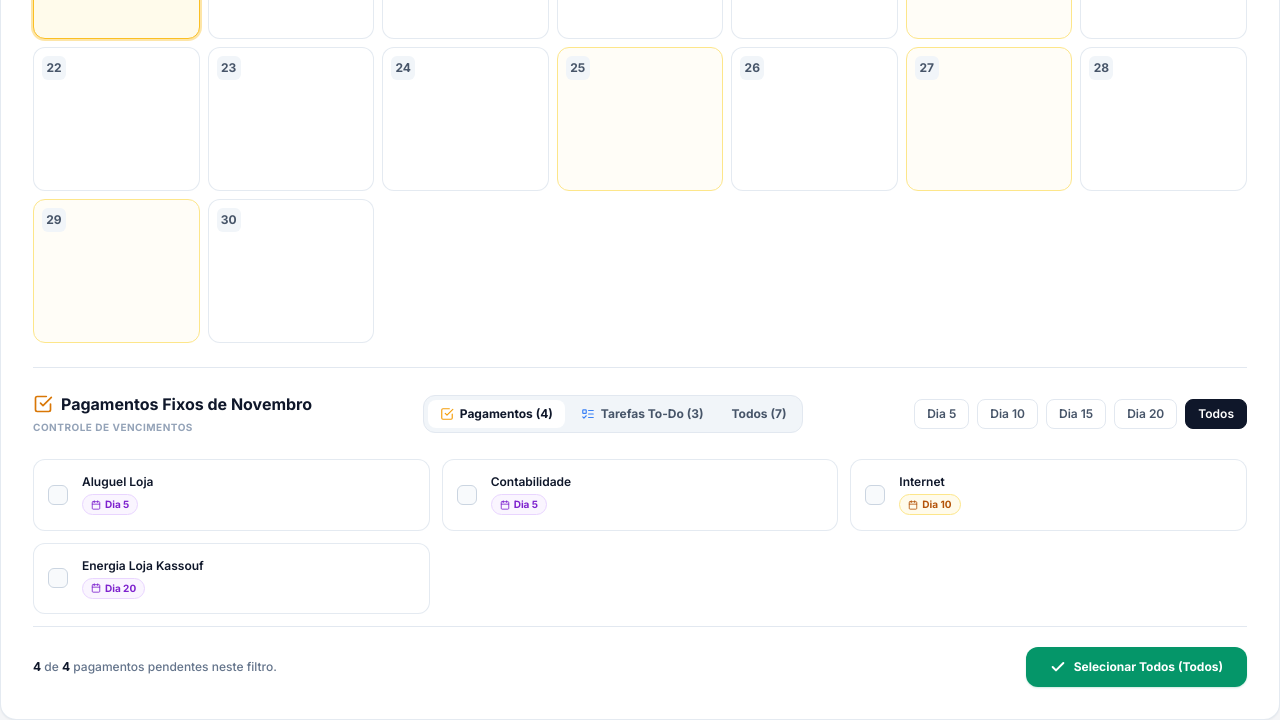
Scenario: Calendário — abas e filtro por dia › o título muda conforme a aba
The width and height of the screenshot is (1280, 720).
(page scrolled)
Check: the heading "Pagamentos Fixos de Novembro" is shown, box [33,392,312,416]
Click the button "Tarefas To-Do (3)" at coordinates (642, 414), box [569,400,716,428]
(page scrolled)
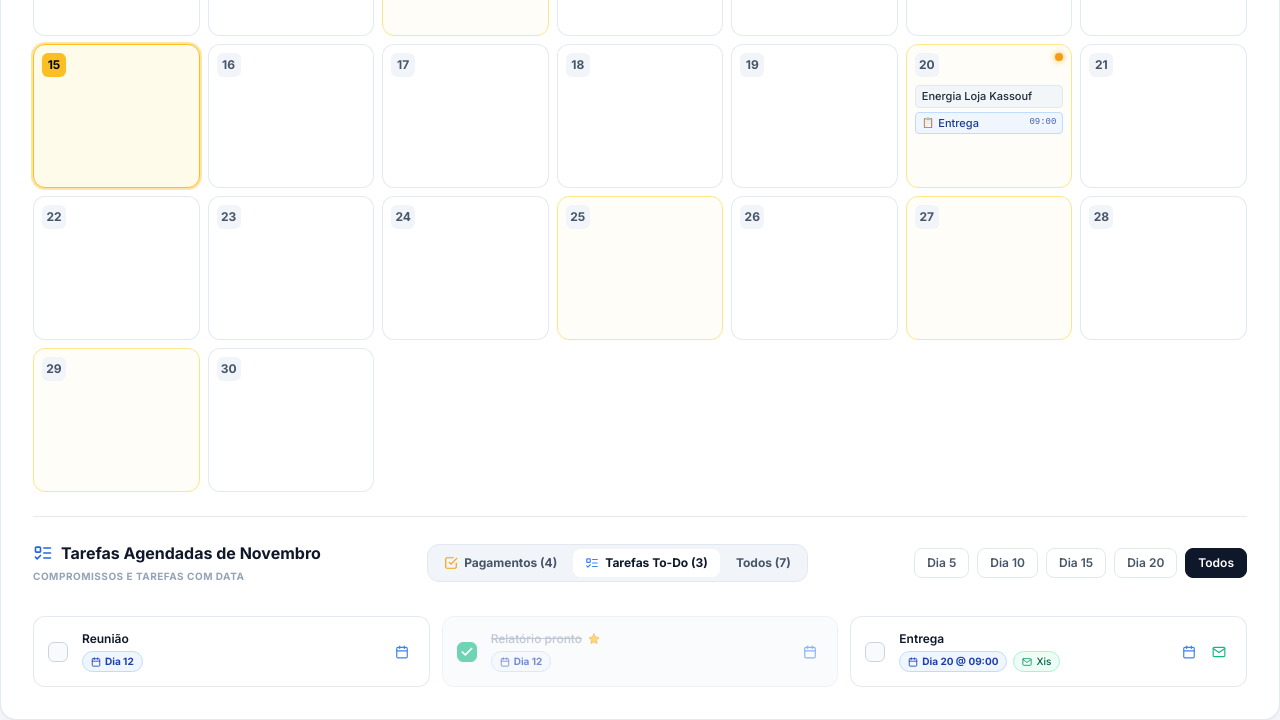
Check: the heading "Tarefas Agendadas de Novembro" is shown, box [33,541,321,565]
Click the button "Todos (7)" at coordinates (763, 562), box [724,548,803,576]
(page scrolled)
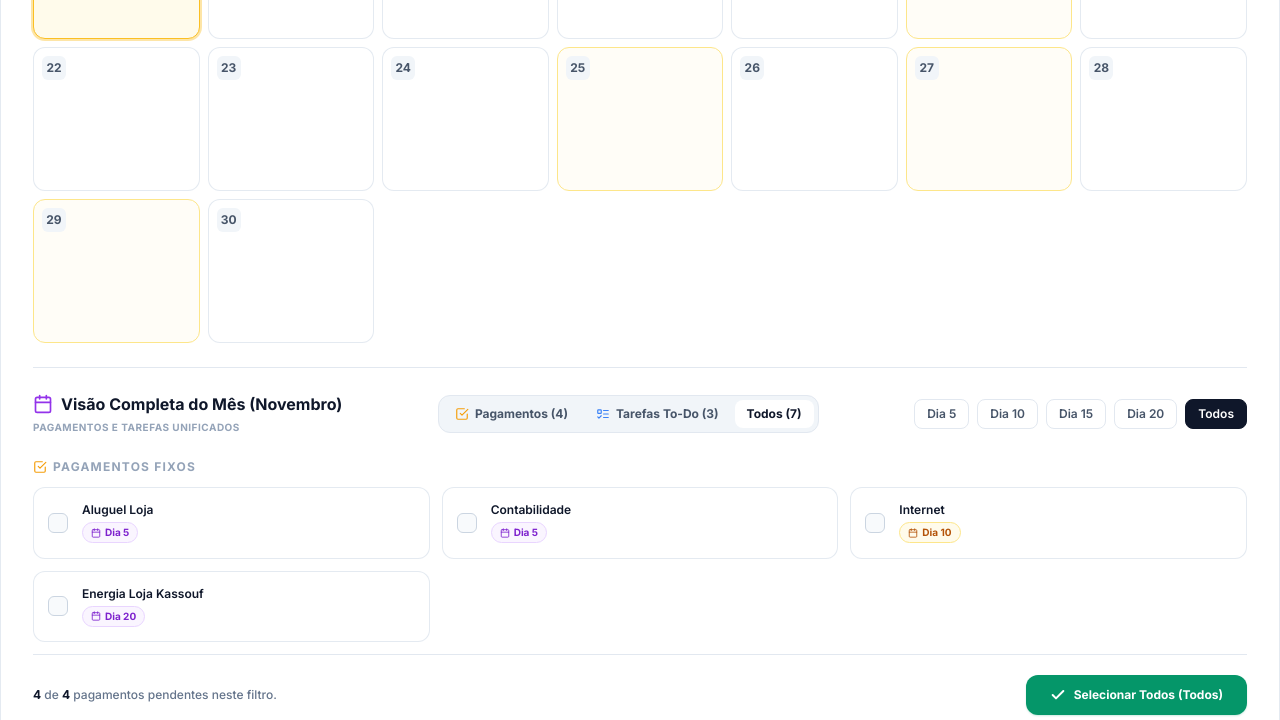
Check: the heading "Visão Completa do Mês (Novembro)" is shown, box [33,392,342,416]
